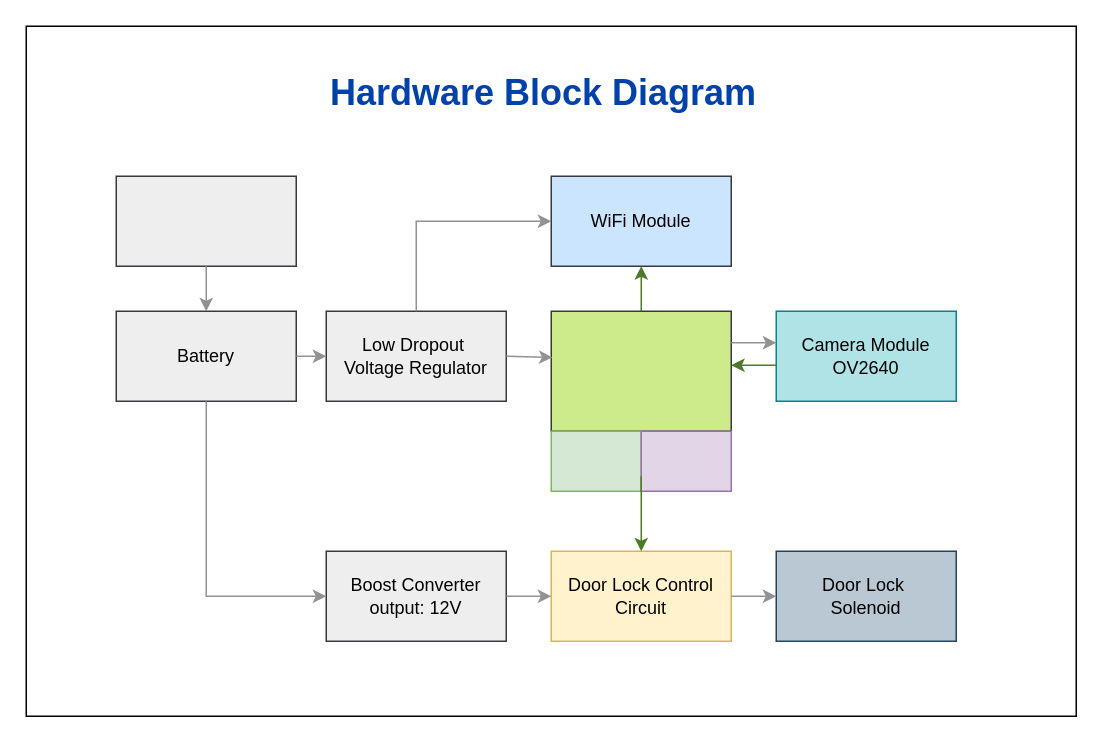
Image size: 1103x743. Some labels were removed from this diagram. The centre of each missing label's shape, as x and y in pixels:
"Battery Charging IC" belongs at pixel 205 220.
"NOR Flash" belongs at pixel 595 460.
"Processor" belongs at pixel 640 370.
"PSRAM" belongs at pixel 685 460.
